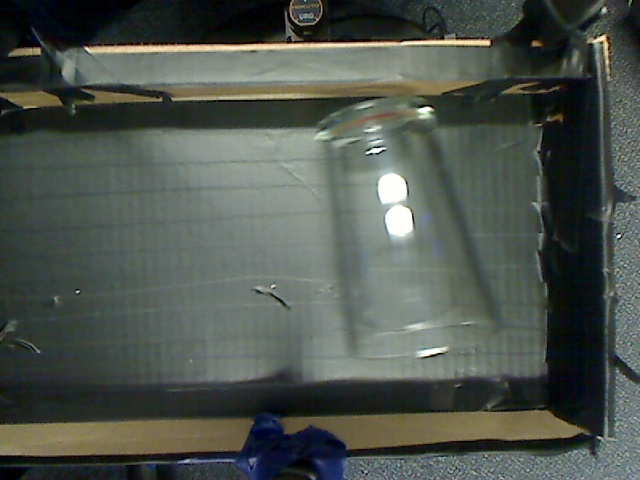cup: (301, 86, 501, 379)
